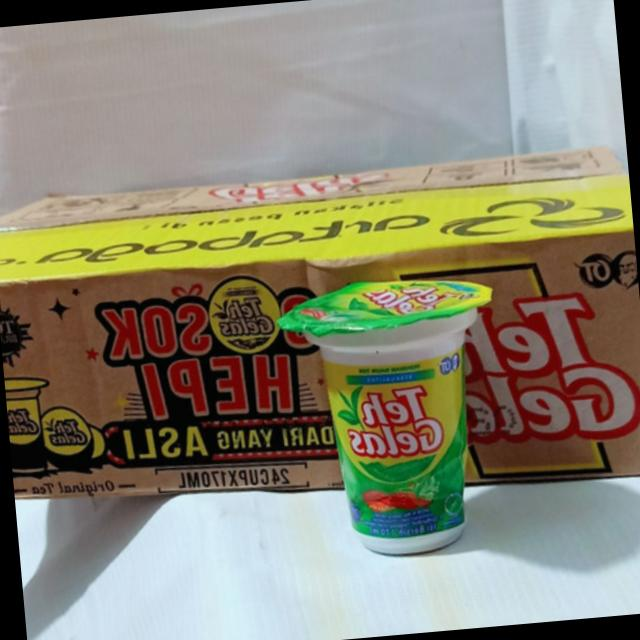GelasPlastik: (274, 268, 516, 565)
